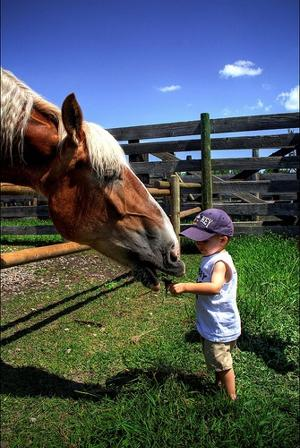person: (168, 210, 241, 402)
